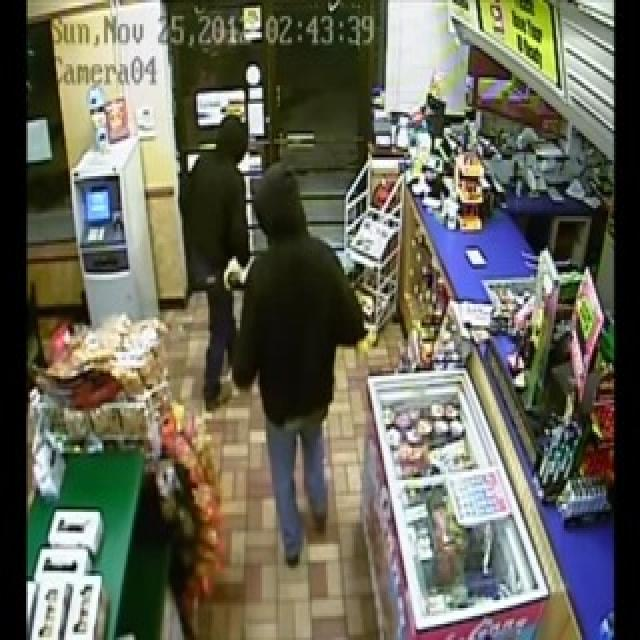thief: (237, 162, 353, 558), (177, 111, 245, 392)
